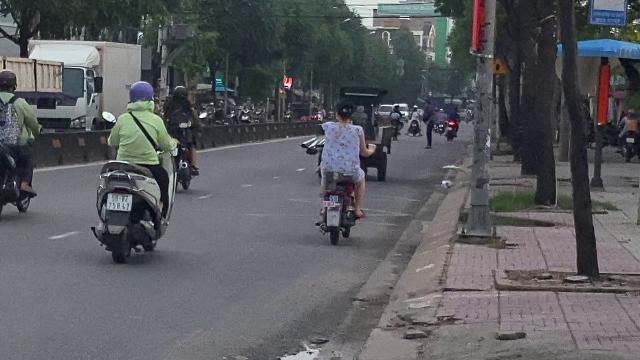helmet: (126, 80, 154, 108), (1, 68, 18, 92), (173, 84, 187, 100)
licenseplate: (106, 193, 132, 211)
motorcyclist: (88, 79, 176, 265), (310, 98, 370, 244), (1, 68, 40, 222), (162, 82, 202, 192)
nohelmet: (332, 96, 356, 126)
